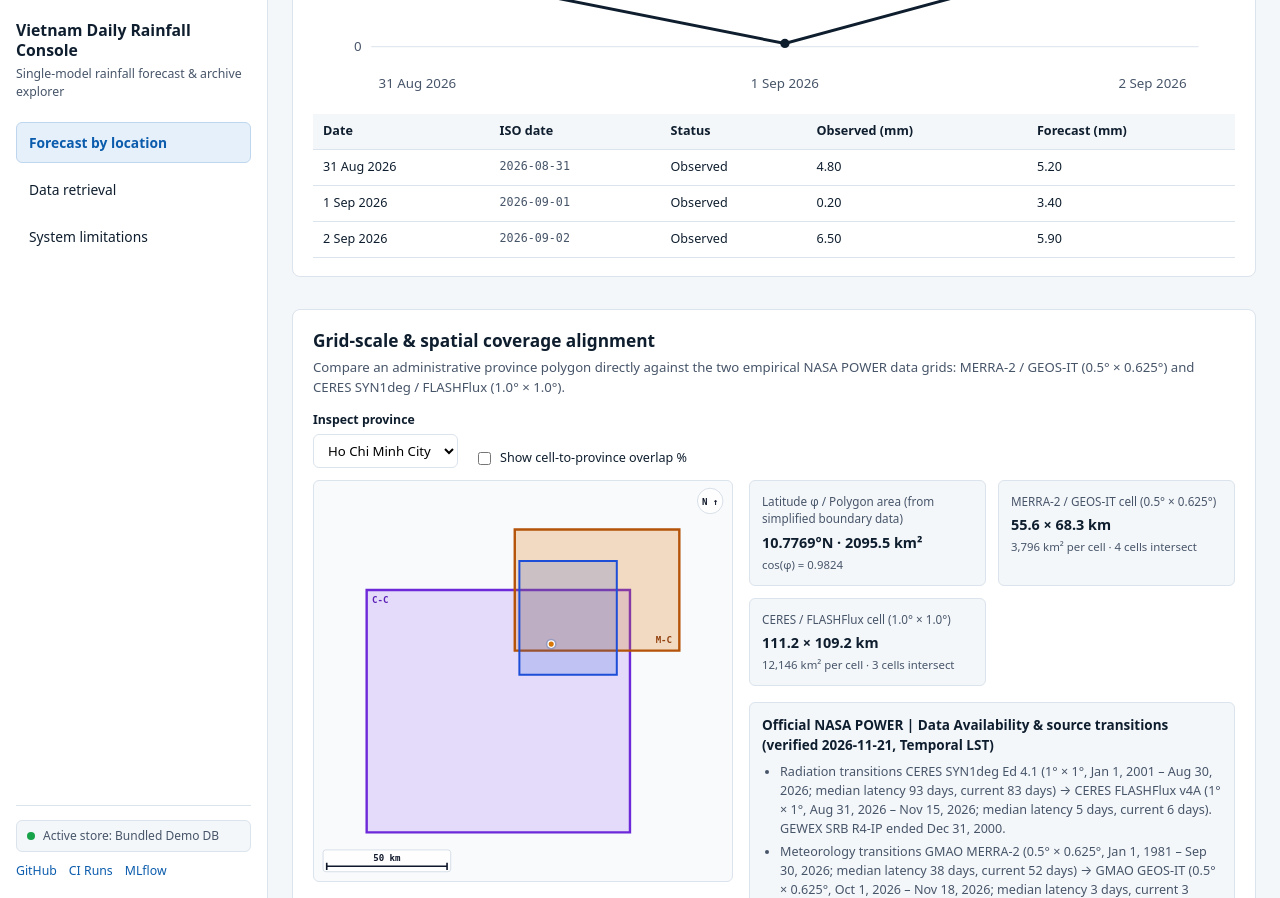
Round 10 English SPA, Single-Model Main, 2-Layer Map & Data Retrieval › renders Round 13 per-cell area labels, Can Tho official-area warning badge, and P-c estimated radiation banner
(page scrolled)
Check: the text with test id "merra-per-cell-sub" reads "3,796 km² per cell · 4 cells intersect", box 1011,539 -> 1197,554
Check: the text with test id "ceres-per-cell-sub" reads "12,146 km² per cell · 3 cells intersect", box 762,657 -> 954,672
Select "Can Tho" in the dropdown named "Select province for grid alignment": coordinates (386, 451) 313,434 -> 458,468
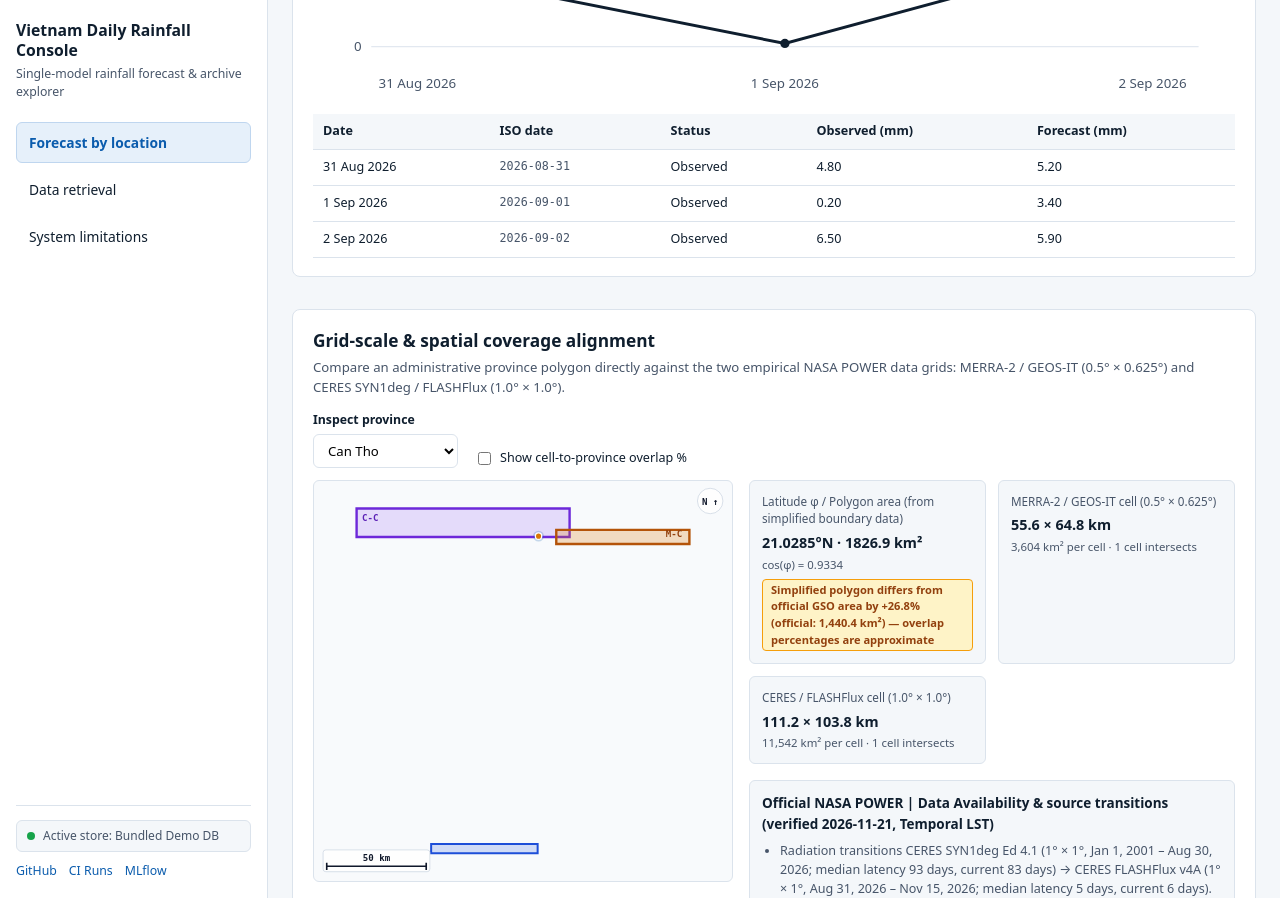
Check: the text with test id "official-area-warning-badge" shows "Simplified polygon differs from official GSO area by +26.8% (official: 1,440.4 km²) — overlap percentages are approximate", box 771,582 -> 944,646
